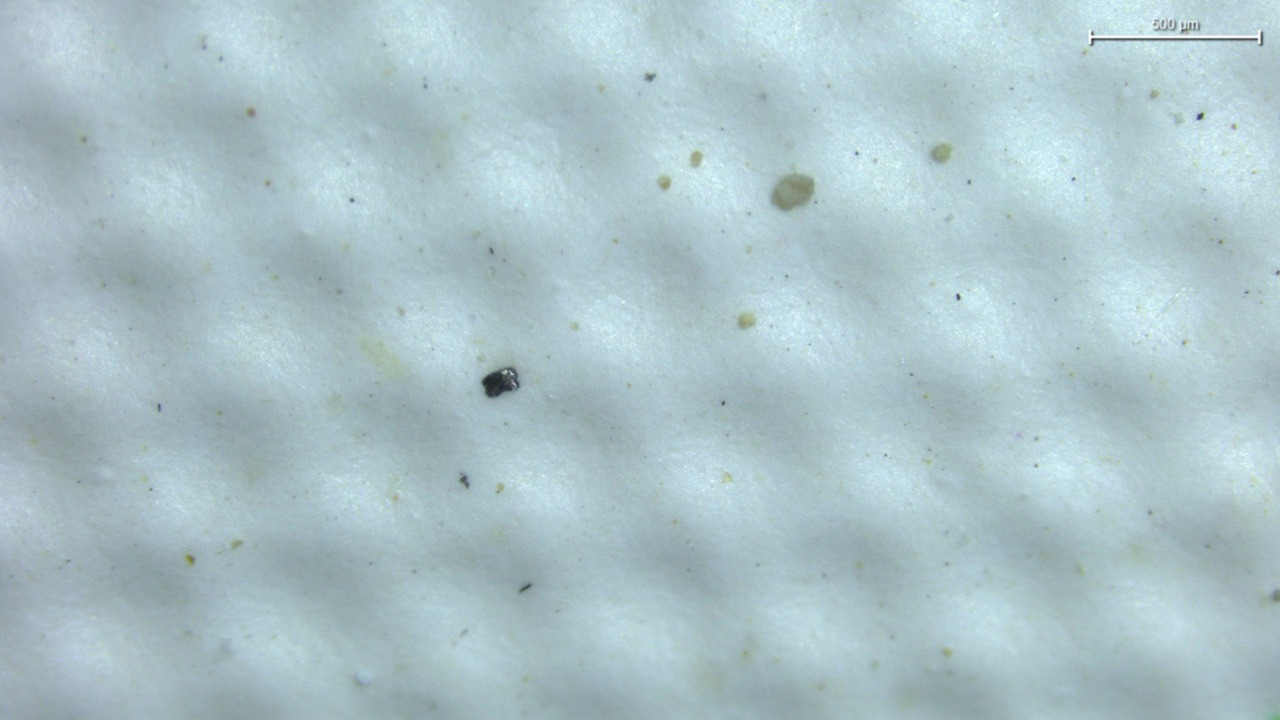microplastic_fragment: (482, 367, 519, 397)
